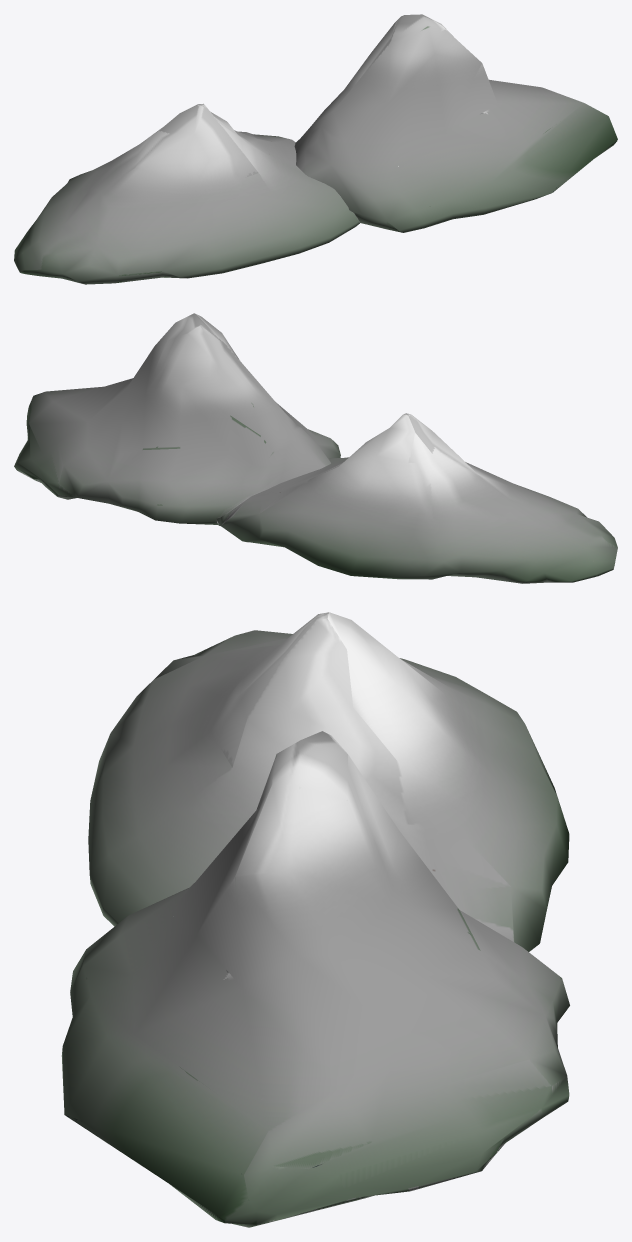
Rendered from mountain.fbx.
3 views of the same model, one above another, from view 1: azimuth 30°, elevation 25°; view 2: azimuth 150°, elevation 25°; view 3: azimuth 270°, elevation 25° (orthographic). The views are drawn at different scales.
Visible parts, largest first — view 1: Cube; view 2: Cube; view 3: Cube.
Boxes of the visible parts, left/top/right/bottom form: Cube: left=14, top=14, right=617, bottom=284; Cube: left=14, top=313, right=617, bottom=583; Cube: left=61, top=612, right=569, bottom=1227.
Bounding box in the file's own units: 3796 × 1012 × 1432.
